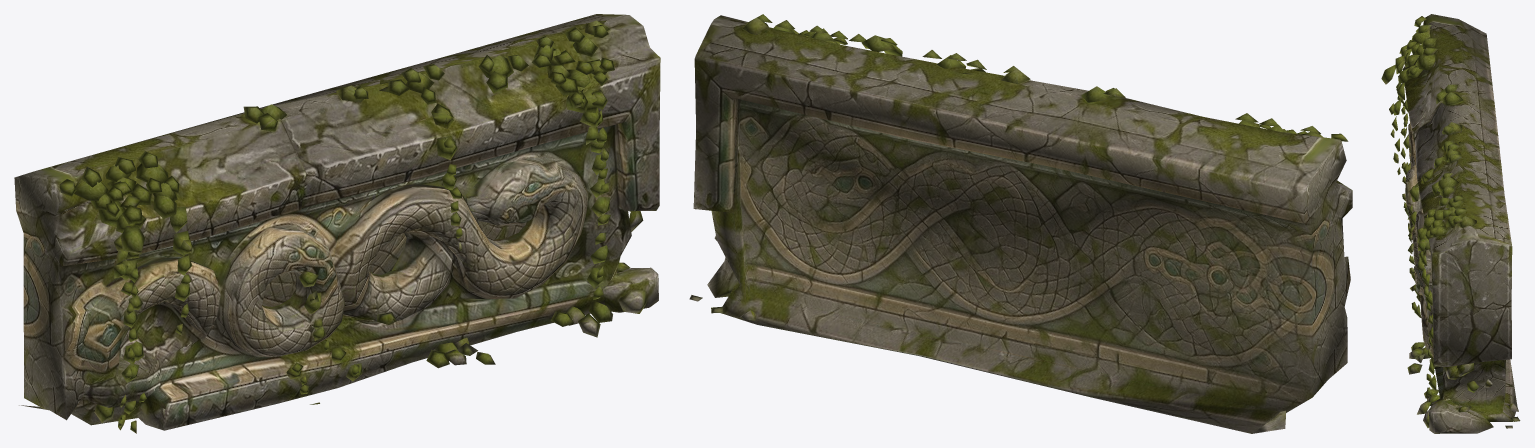
The model's file is serpent_frieze.glb.
The picture shows the model from 3 angles, left to right: view 1: azimuth 30°, elevation 25°; view 2: azimuth 150°, elevation 25°; view 3: azimuth 270°, elevation 25°; orthographic projection. The views are drawn at different scales.
Visible parts, largest first — view 1: kit-serpent-ruin-4; view 2: kit-serpent-ruin-4; view 3: kit-serpent-ruin-4.
Part boxes in pixels (x1=…): kit-serpent-ruin-4: x1=14, y1=14, x2=660, y2=433; kit-serpent-ruin-4: x1=689, y1=14, x2=1352, y2=433; kit-serpent-ruin-4: x1=1381, y1=14, x2=1520, y2=433.
Size of the model in its own units: 3.5 by 1.61 by 0.9399.
1 material, 1 textured.
